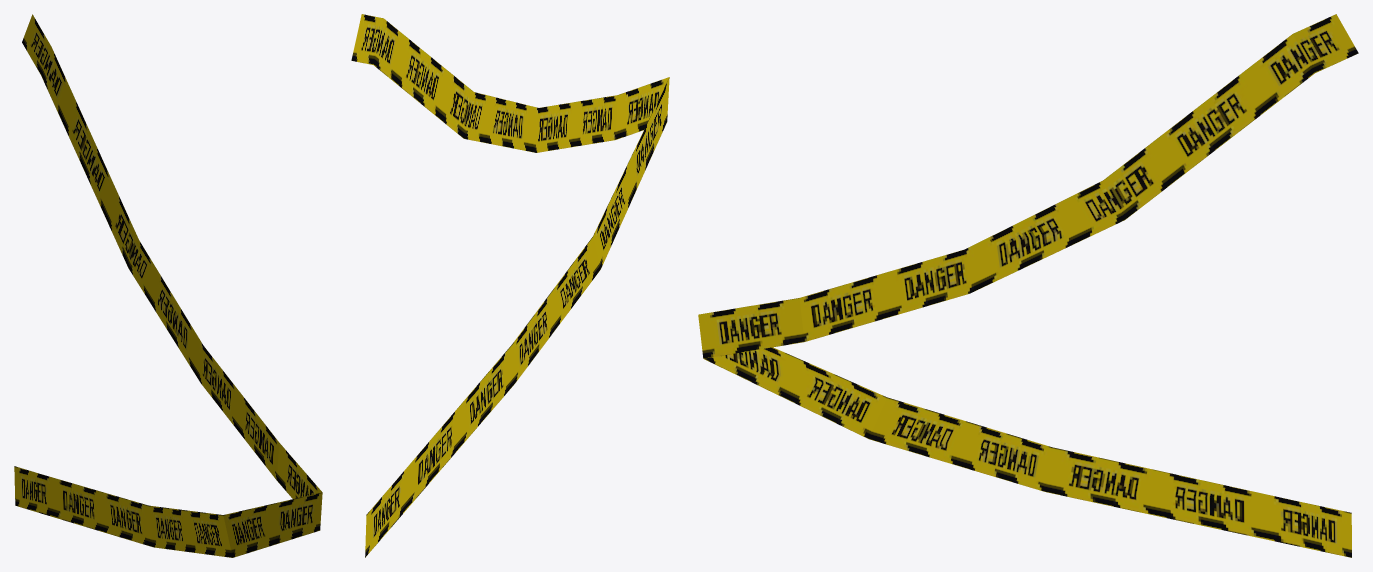
The model's file is Cinta.fbx.
3 renders of one model, left to right at view 1: azimuth 30°, elevation 25°; view 2: azimuth 150°, elevation 25°; view 3: azimuth 270°, elevation 25°, orthographic. The views are drawn at different scales.
Visible parts, largest first — view 1: Cintas; view 2: Cintas; view 3: Cintas.
Boxes of the visible parts, bbox=[...] form: Cintas: bbox=[14, 14, 322, 557]; Cintas: bbox=[351, 14, 669, 557]; Cintas: bbox=[698, 14, 1358, 557].
Size of the model in its own units: 9.09 by 261 by 284.
Materials: 1 (1 with a texture image).
